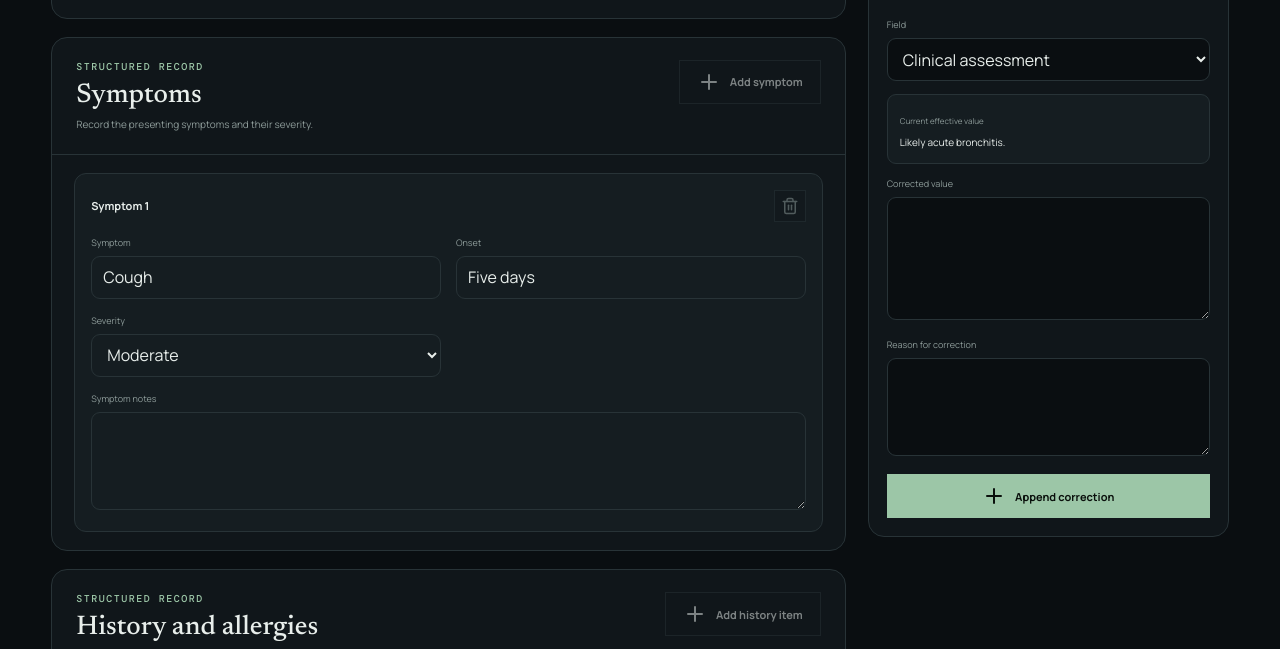
Test case: Doctor clinical workspace › appends an attributable correction to a finalised source
The width and height of the screenshot is (1280, 649).
(page scrolled)
Type "Corrected synthetic assessment." into the text box labelled "Corrected value". click: [1048, 258]
box: top-left (887, 197), bottom-right (1210, 320)
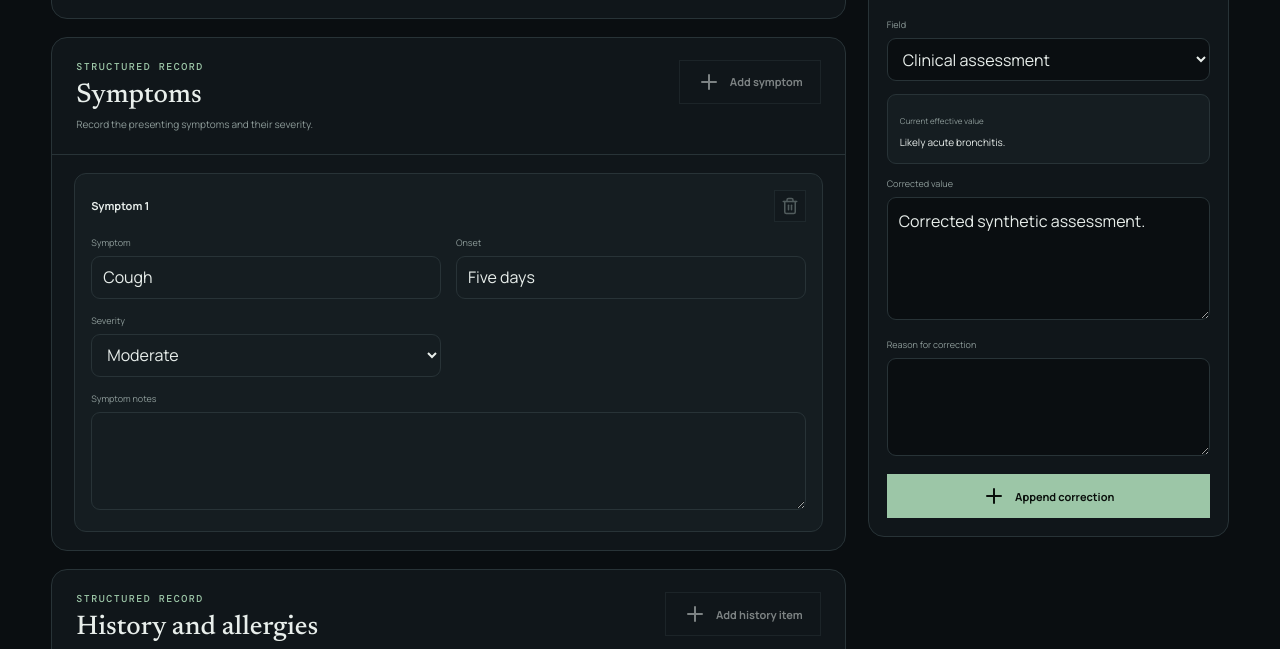
Type "Corrected a synthetic dictation error." into the text box labelled "Reason for correction". click: [1048, 407]
box: top-left (887, 358), bottom-right (1210, 456)
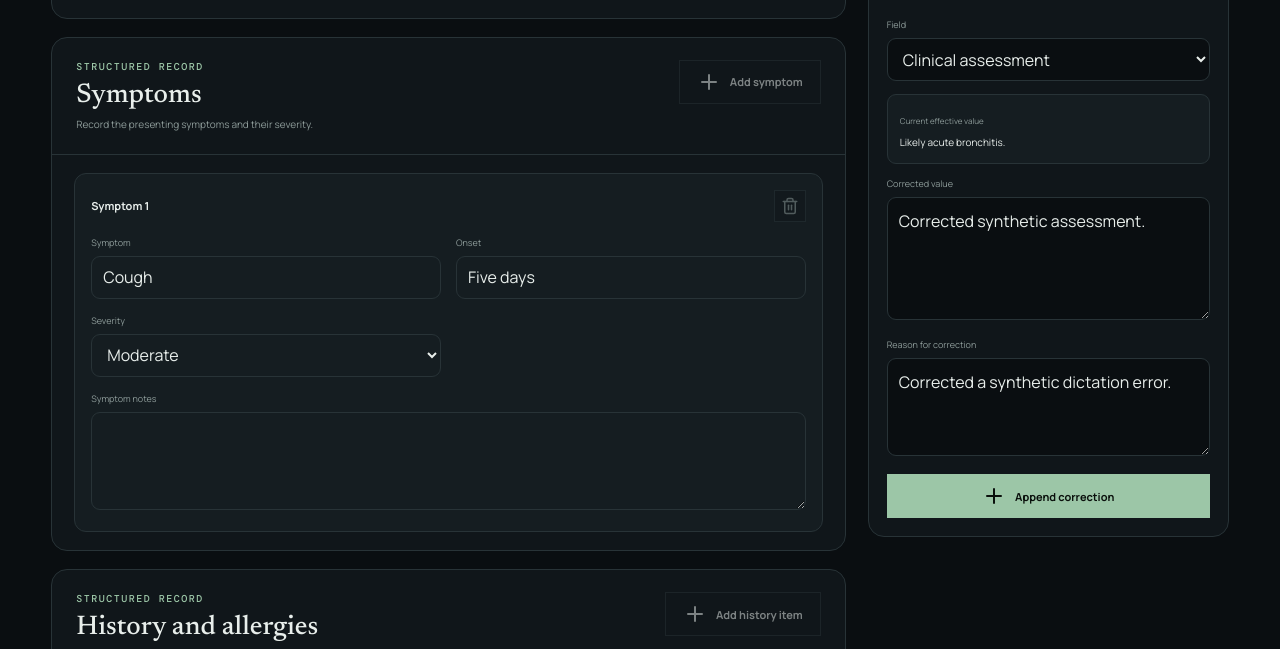
Click the button "Append correction". click: [1048, 496]
box: top-left (887, 474), bottom-right (1210, 518)
(page scrolled)
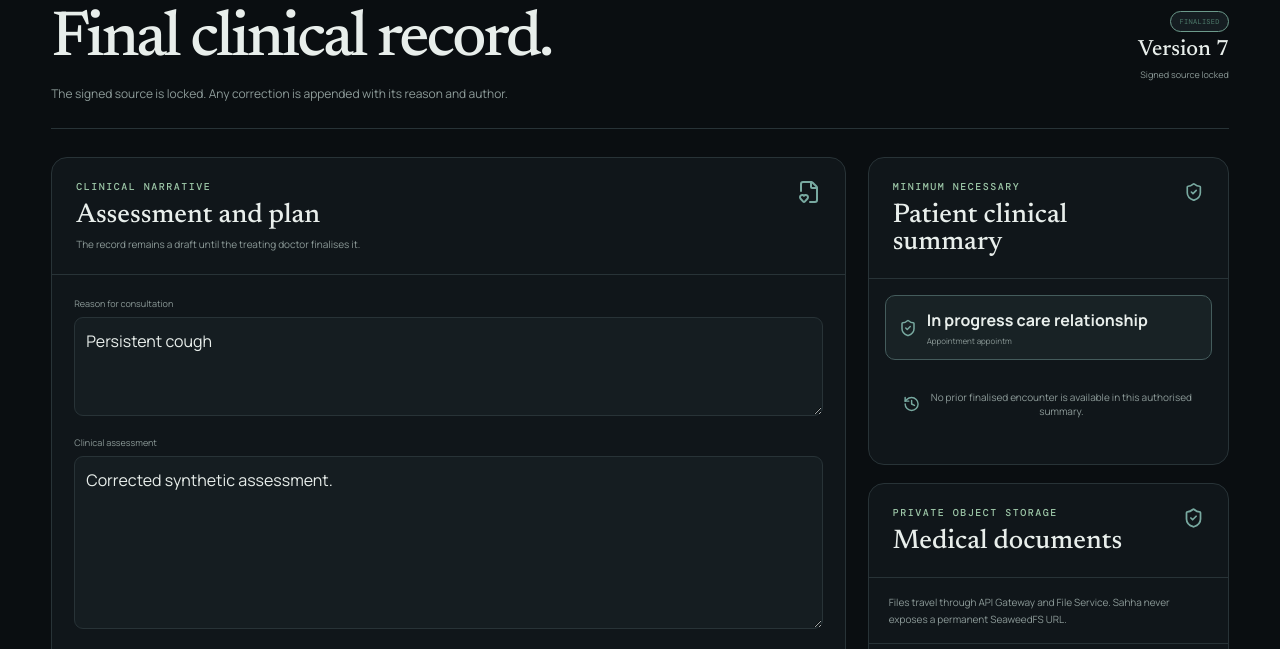
Now the text "Version 7" is shown, box top-left (1138, 39), bottom-right (1229, 61)
